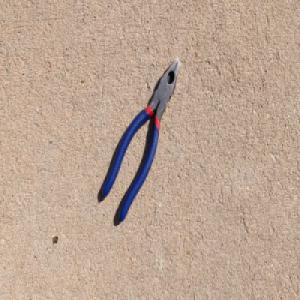Pliers: (100, 57, 180, 225)
